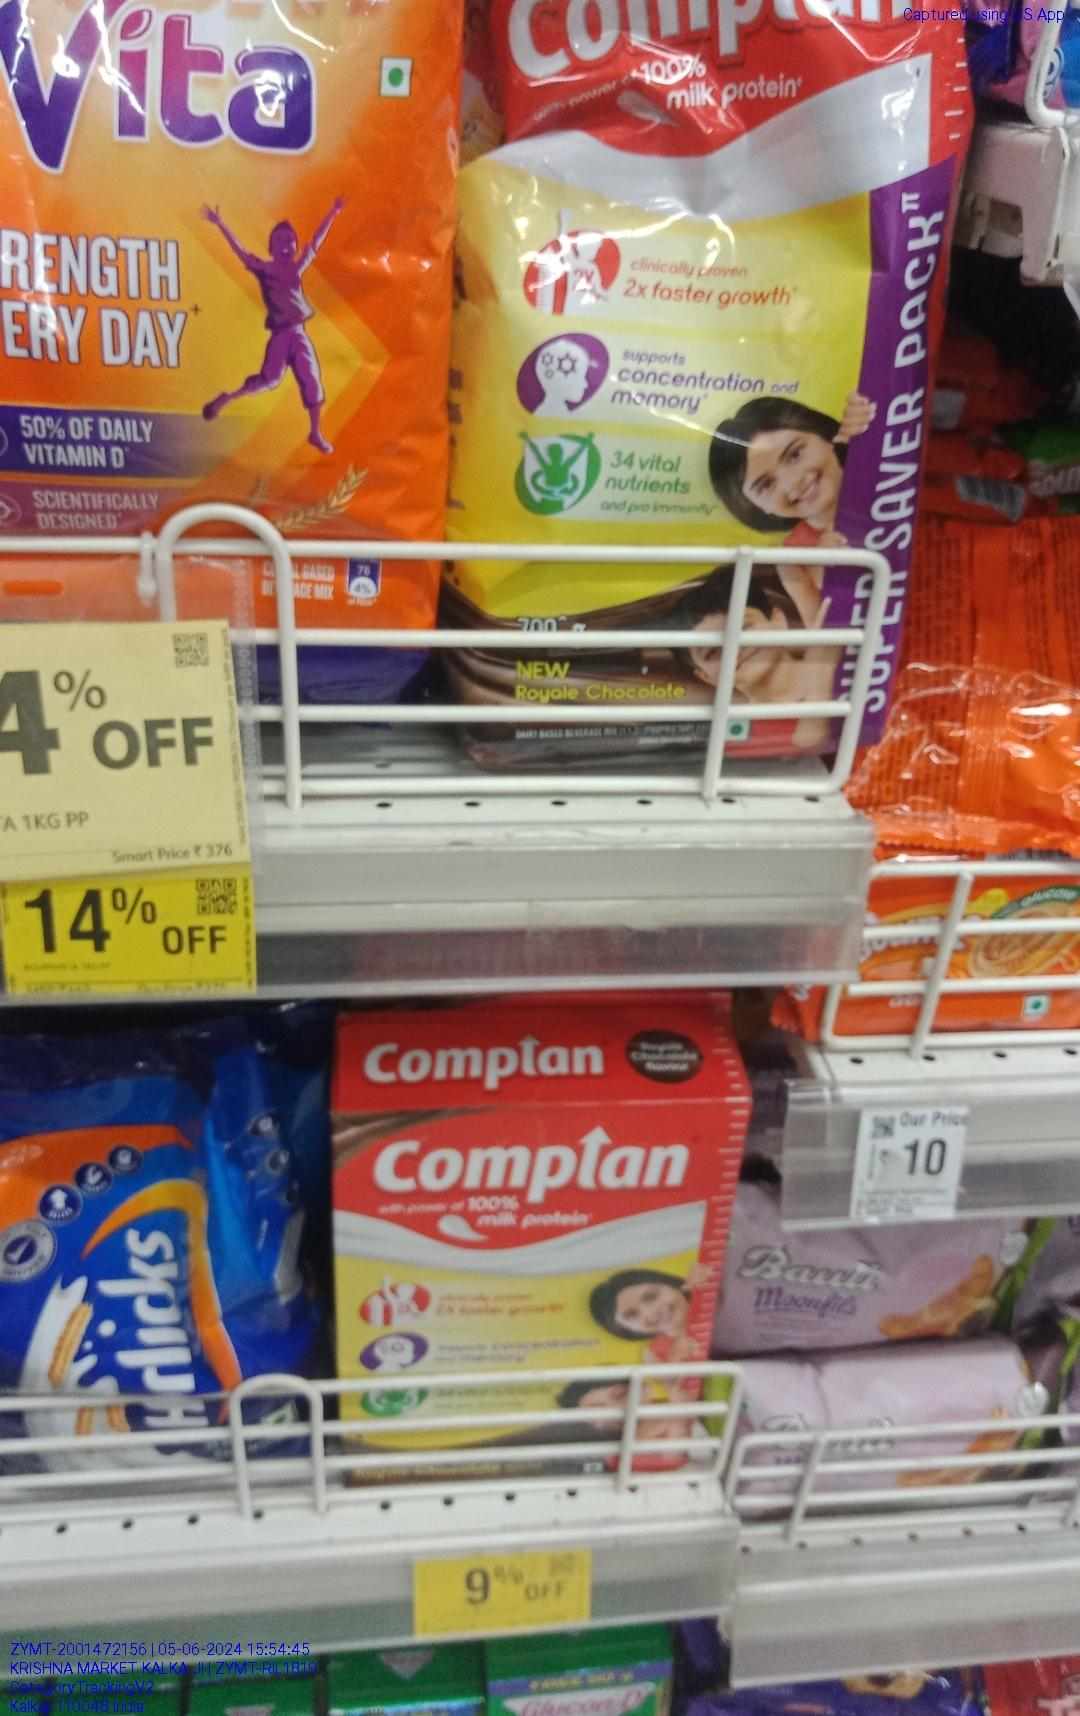COMPLAN_CHOCOLATE_500_GMS_PACK: (331, 1099, 745, 1509)
COMPLAN_RC_POUCH_700_GMS_12: (477, 0, 908, 750)
